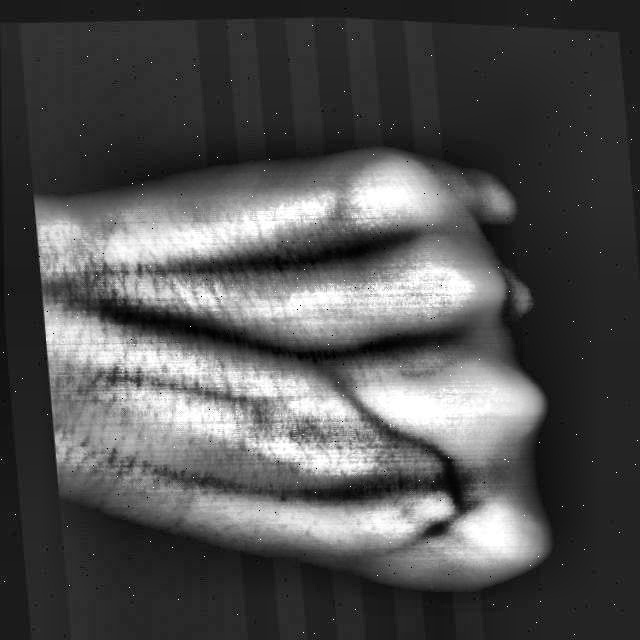Vein: (80, 292, 304, 367), (108, 443, 325, 504), (97, 245, 312, 278)
